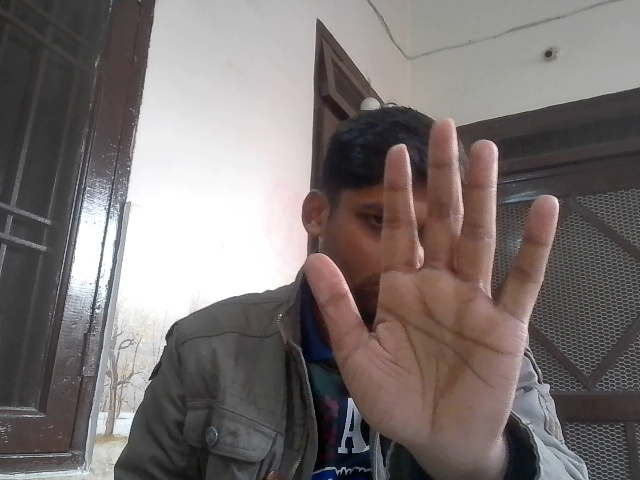Hello: (305, 118, 559, 454)
